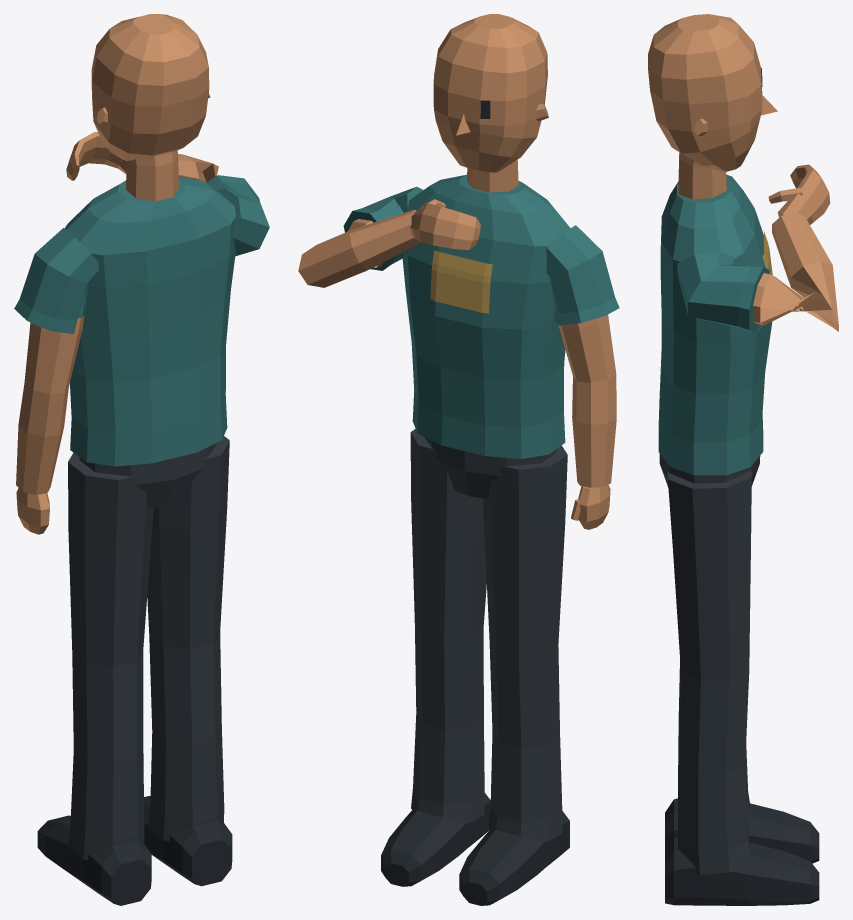
File: lwf_attendee_male_drinking_soft_v2.glb
The picture shows the model from 3 angles, left to right: view 1: azimuth 30°, elevation 25°; view 2: azimuth 150°, elevation 25°; view 3: azimuth 270°, elevation 25°; orthographic projection. The views are drawn at different scales.
Visible parts, largest first — view 1: Attendee_male_drinking_soft_v6; view 2: Attendee_male_drinking_soft_v6; view 3: Attendee_male_drinking_soft_v6.
Boxes of the visible parts, bbox=[...] form: Attendee_male_drinking_soft_v6: bbox=[14, 14, 269, 905]; Attendee_male_drinking_soft_v6: bbox=[298, 14, 619, 905]; Attendee_male_drinking_soft_v6: bbox=[648, 14, 838, 905].
Bounding box in the file's own units: 0.5469 × 1.73 × 0.348.
1 material, 1 textured.
